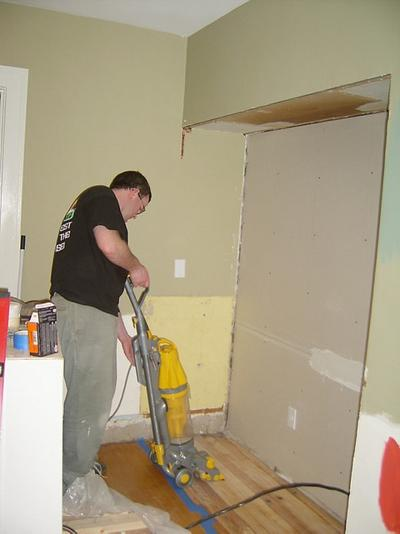person: (50, 170, 153, 496)
